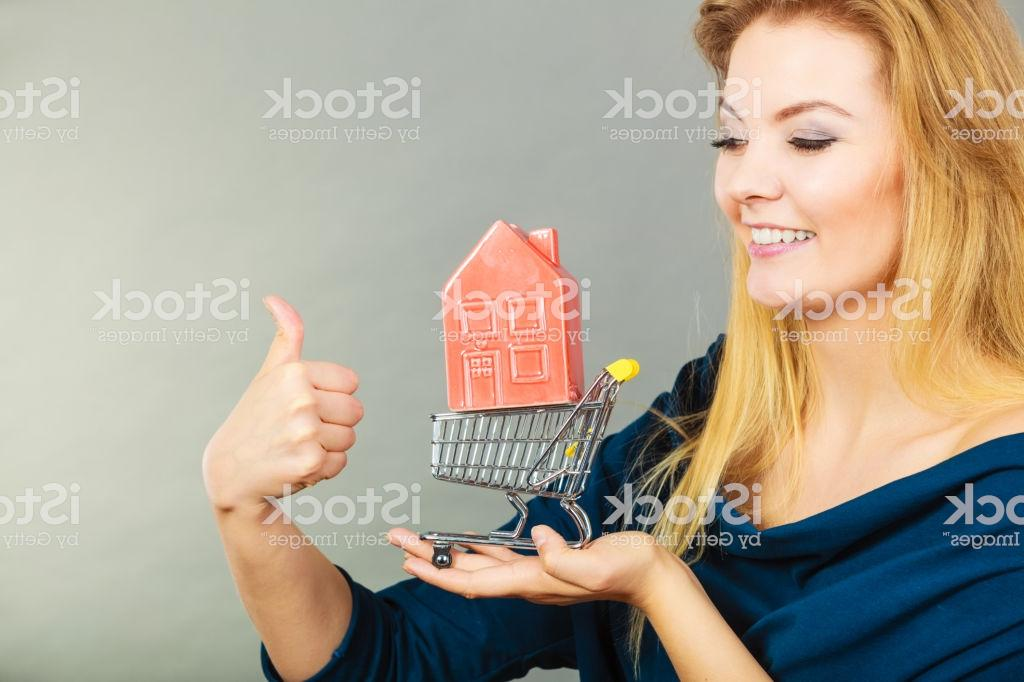thumbsup: (251, 291, 364, 495)
